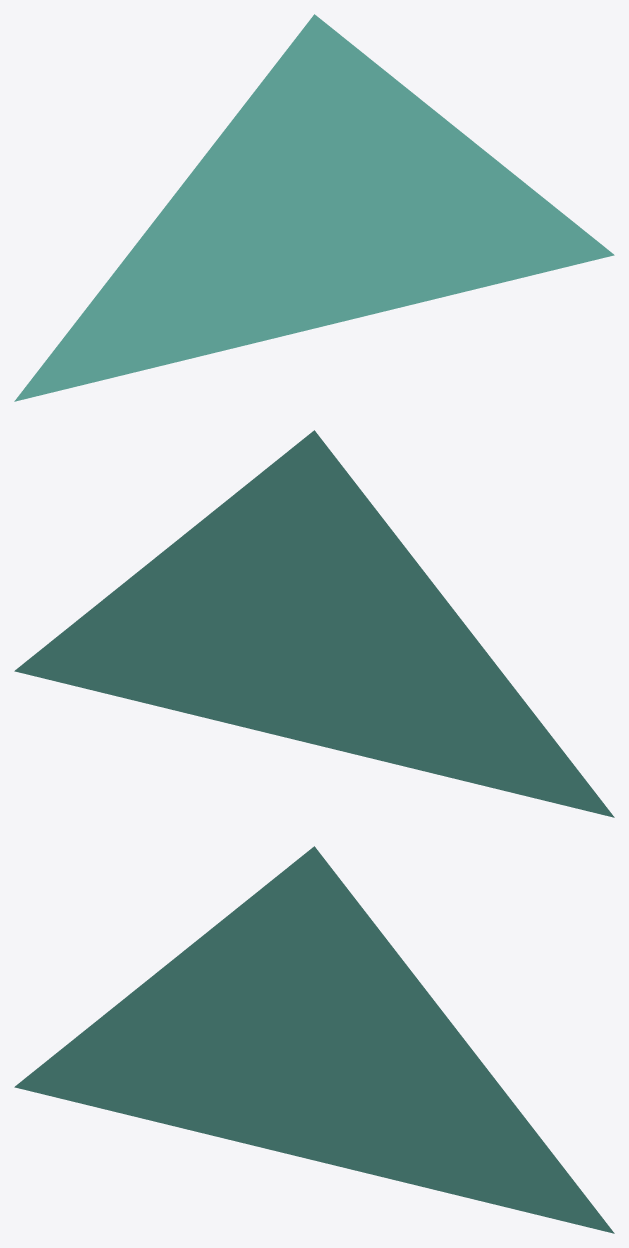
Rendered from synthetic.glb.
3 renders of one model, top to bottom at view 1: azimuth 30°, elevation 25°; view 2: azimuth 150°, elevation 25°; view 3: azimuth 330°, elevation 25°, orthographic.
Parts seen in each view (by area): view 1: SyntheticAnimatedTriangle; view 2: SyntheticAnimatedTriangle; view 3: SyntheticAnimatedTriangle.
Part boxes in pixels (x1,y1,x2,y2): SyntheticAnimatedTriangle: (14,14,614,401); SyntheticAnimatedTriangle: (14,430,614,817); SyntheticAnimatedTriangle: (14,846,614,1233).
Bounding box in the file's own units: 2 × 1 × 0.
